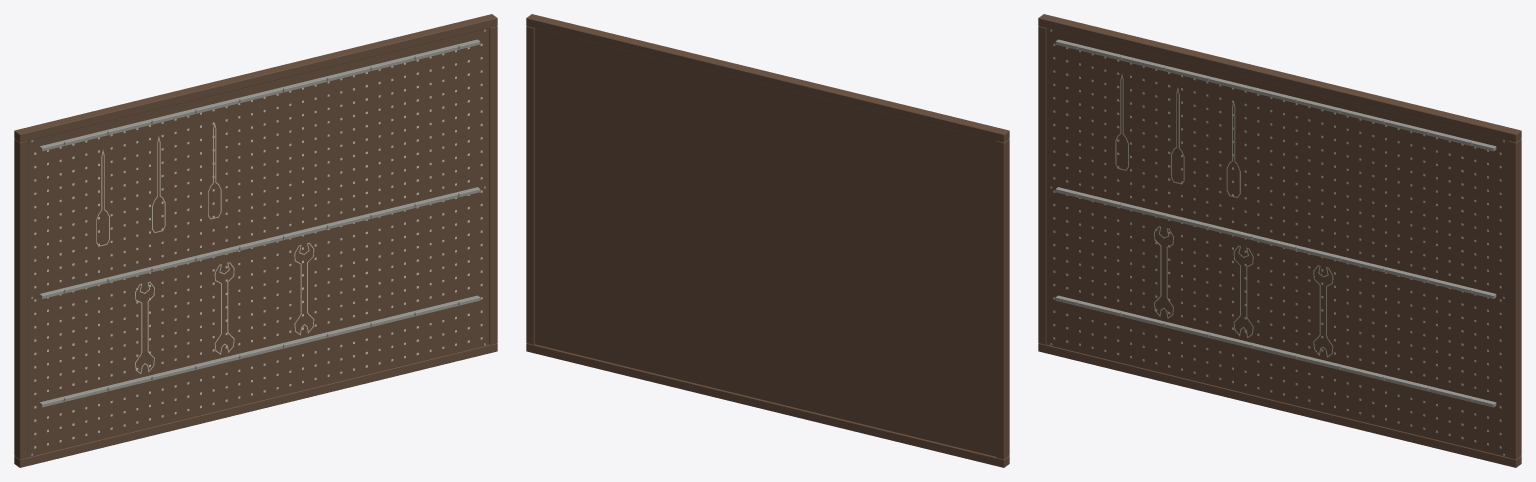
File: pegboard-0be509c87887.glb
3 views of the same model, side by side, from view 1: azimuth 30°, elevation 25°; view 2: azimuth 150°, elevation 25°; view 3: azimuth 330°, elevation 25° (orthographic).
Parts seen in each view (by area): view 1: wood, brushed, decal-ink, paper; view 2: wood; view 3: wood, brushed, decal-ink, paper.
Part boxes in pixels (x1,y1,x2,y2): wood: (14, 14, 497, 467); brushed: (31, 29, 485, 455); decal-ink: (34, 43, 482, 448); paper: (96, 122, 314, 373); wood: (526, 14, 1009, 467); wood: (1038, 14, 1521, 467); brushed: (1050, 29, 1504, 455); decal-ink: (1053, 43, 1501, 448); paper: (1115, 73, 1333, 357).
Bounding box in the file's own units: 1.2 × 0.8 × 0.0395.
